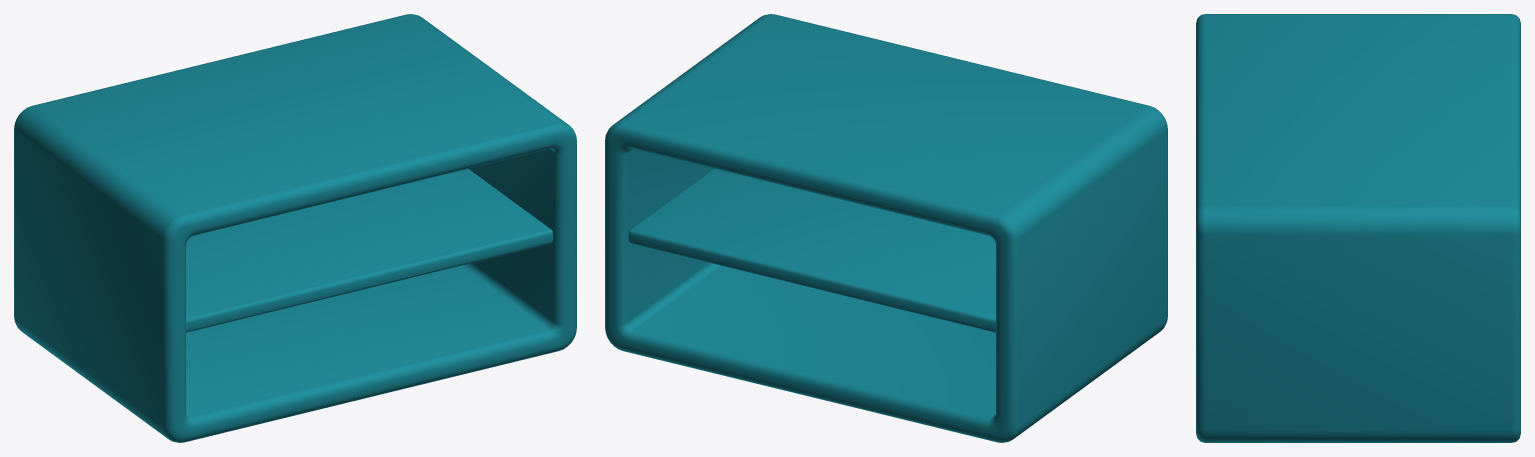
Rendered from mesa_centro_nicho_turquesa.glb.
3 views of the same model, side by side, from view 1: azimuth 30°, elevation 25°; view 2: azimuth 150°, elevation 25°; view 3: azimuth 270°, elevation 25° (orthographic). The views are drawn at different scales.
Visible parts, largest first — view 1: mesa_centro_nicho_turquesa; view 2: mesa_centro_nicho_turquesa; view 3: mesa_centro_nicho_turquesa.
Boxes of the visible parts, x1,y1,x2,y2 form: mesa_centro_nicho_turquesa: (14,14,576,442); mesa_centro_nicho_turquesa: (605,14,1167,442); mesa_centro_nicho_turquesa: (1196,14,1520,442).
Bounding box in the file's own units: 0.76 × 0.4 × 0.5.
1 material, 1 textured.
